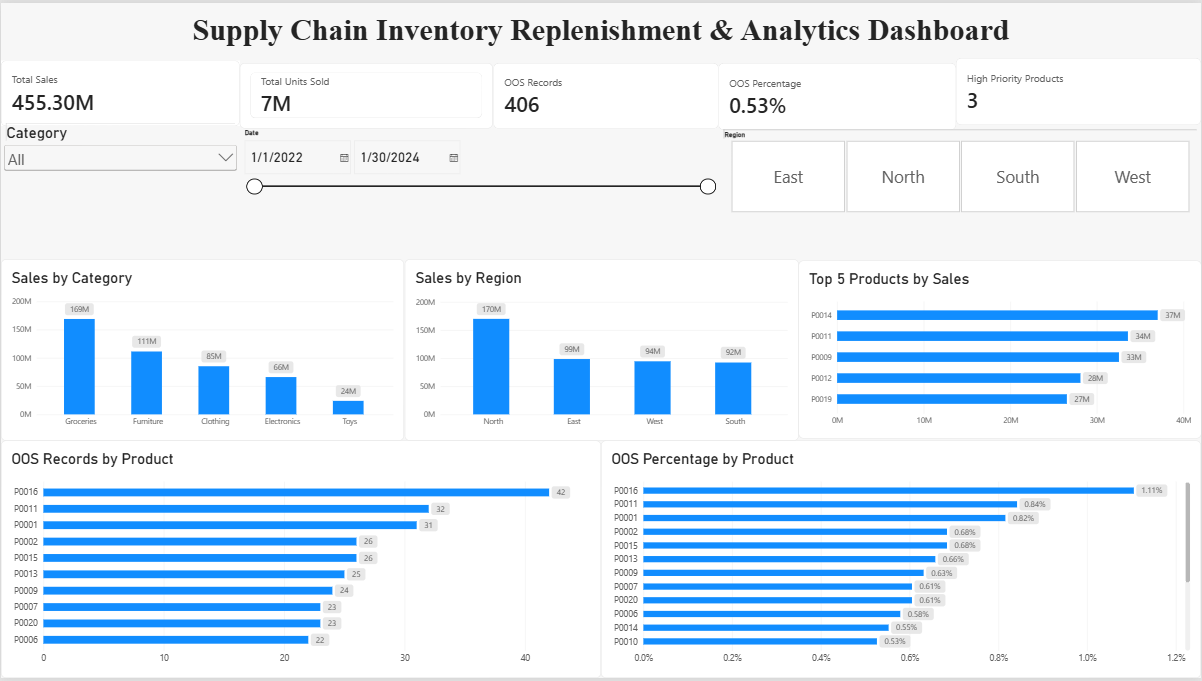

Layout of this report page (visuals, bound fields, positions):
{"tool":"powerbi","page":{"name":"Page 1","canvas":[1920,1080],"ordinal":0},"visuals":[{"type":"cardVisual","fields":{"Data":["Inventory_Data.Total Sales"]},"box":[0,92.5,382.5,105],"z":0},{"type":"cardVisual","fields":{"Data":["Inventory_Data.Total Units Sold"]},"box":[382.5,95,405,105],"z":1000},{"type":"cardVisual","fields":{"Data":["Inventory_Data.OOS Records"]},"box":[787.5,95,360,105],"z":2000},{"type":"cardVisual","fields":{"Data":["Inventory_Data.OOS Percentage"]},"box":[1147.5,95,380,107.5],"z":3000},{"type":"clusteredColumnChart","title":"Sales by Category","fields":{"Category":["Inventory_Data.Category"],"Y":["Inventory_Data.Total Sales"]},"box":[0,410,645,290],"z":4000},{"type":"clusteredColumnChart","title":"Sales by Region","fields":{"Category":["Inventory_Data.Region"],"Y":["Inventory_Data.Total Sales"]},"box":[645,410,630,290],"z":5000},{"type":"clusteredBarChart","title":"Top 5 Products by Sales","fields":{"Category":["Inventory_Data.Product ID"],"Y":["Inventory_Data.Total Sales"]},"box":[1275,412.5,645,285],"z":6000},{"type":"clusteredBarChart","title":"OOS Records by Product","fields":{"Category":["Inventory_Data.Product ID"],"Y":["Inventory_Data.OOS Records"]},"box":[0,700,960,380],"z":7000},{"type":"cardVisual","fields":{"Data":["Inventory_Data.High Priority Products"]},"box":[1527.5,87.5,392.5,107.5],"z":8000},{"type":"clusteredBarChart","title":"OOS Percentage by Product","fields":{"Category":["Inventory_Data.Product ID"],"Y":["Inventory_Data.OOS Percentage"]},"box":[960,700,960,380],"z":9000},{"type":"textbox","box":[0,15,1920,80],"z":11000},{"type":"slicer","fields":{"Values":["Inventory_Data.Category"]},"box":[0,192.5,382.5,145],"z":11001},{"type":"slicer","fields":{"Values":["Inventory_Data.Region"]},"box":[1147.5,202.5,772.5,135],"z":11002},{"type":"slicer","fields":{"Values":["Inventory_Data.Date"]},"box":[382.5,200,765,137.5],"z":11003}]}

Visuals, with their boxes in screenshot pixels (x1, y1, x2, y2), scaled from the page's 1920x1080 canvas onto the 1202x681 screenshot:
cardVisual - Inventory_Data.Total Sales: <box>0,58,239,125</box>
cardVisual - Inventory_Data.Total Units Sold: <box>239,60,493,126</box>
cardVisual - Inventory_Data.OOS Records: <box>493,60,718,126</box>
cardVisual - Inventory_Data.OOS Percentage: <box>718,60,956,128</box>
"Sales by Category" clusteredColumnChart: <box>0,259,404,441</box>
"Sales by Region" clusteredColumnChart: <box>404,259,798,441</box>
"Top 5 Products by Sales" clusteredBarChart: <box>798,260,1201,440</box>
"OOS Records by Product" clusteredBarChart: <box>0,441,601,680</box>
cardVisual - Inventory_Data.High Priority Products: <box>956,55,1201,123</box>
"OOS Percentage by Product" clusteredBarChart: <box>601,441,1201,680</box>
textbox: <box>0,9,1201,60</box>
slicer - Inventory_Data.Category: <box>0,121,239,213</box>
slicer - Inventory_Data.Region: <box>718,128,1201,213</box>
slicer - Inventory_Data.Date: <box>239,126,718,213</box>
